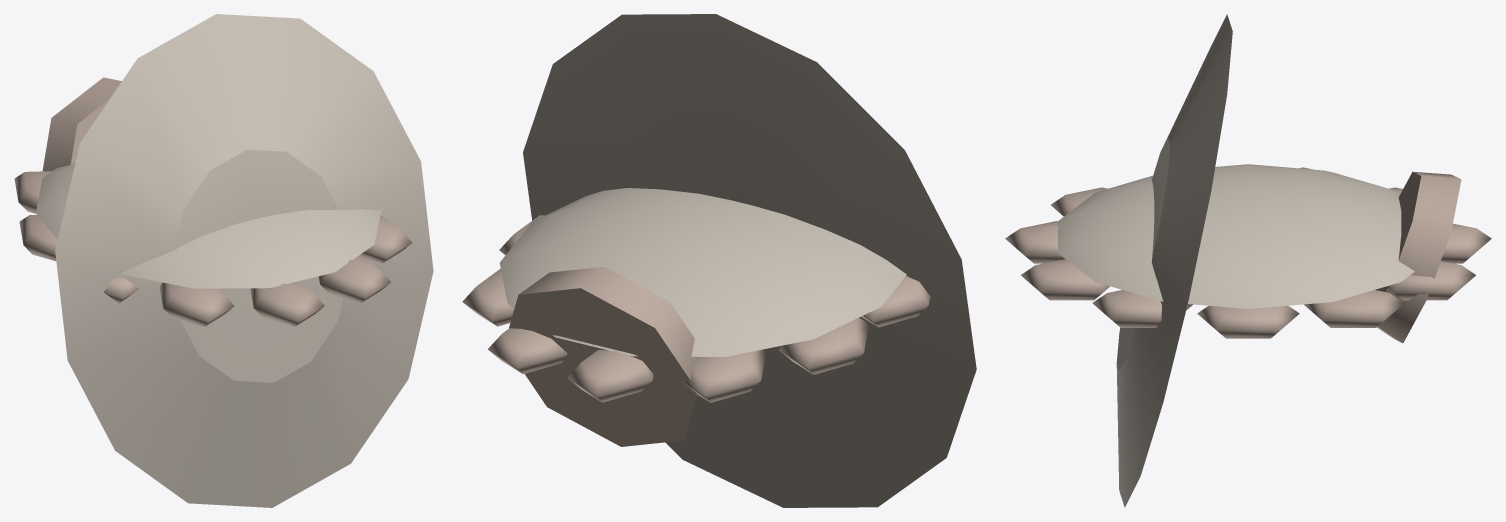
File: seashell.glb
3 views of the same model, side by side, from view 1: azimuth 30°, elevation 25°; view 2: azimuth 150°, elevation 25°; view 3: azimuth 270°, elevation 25° (orthographic). The views are drawn at different scales.
Parts seen in each view (by area): view 1: seashell; view 2: seashell; view 3: seashell.
Part boxes in pixels (box(x1,y1,x2,y2)): seashell: box(14, 14, 433, 507); seashell: box(462, 14, 976, 507); seashell: box(1005, 14, 1491, 507).
Bounding box in the file's own units: 0.1544 × 0.1827 × 0.1757.
